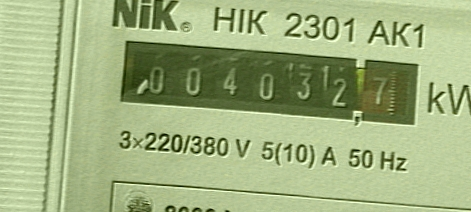0: (183, 66, 205, 100), (147, 63, 168, 97), (256, 70, 277, 104)
2: (330, 76, 350, 111)
3: (295, 71, 315, 104)
4: (220, 65, 242, 102)
7: (371, 75, 390, 109)
screen: (110, 33, 429, 140)
